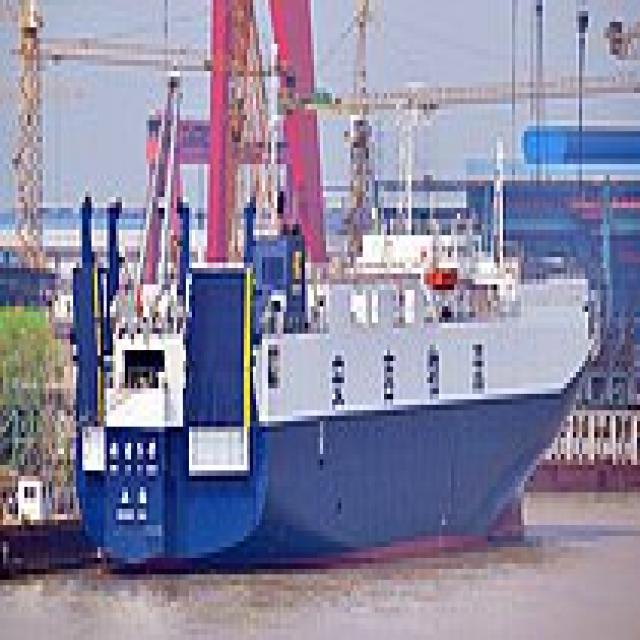Carrier: (64, 180, 588, 580)
